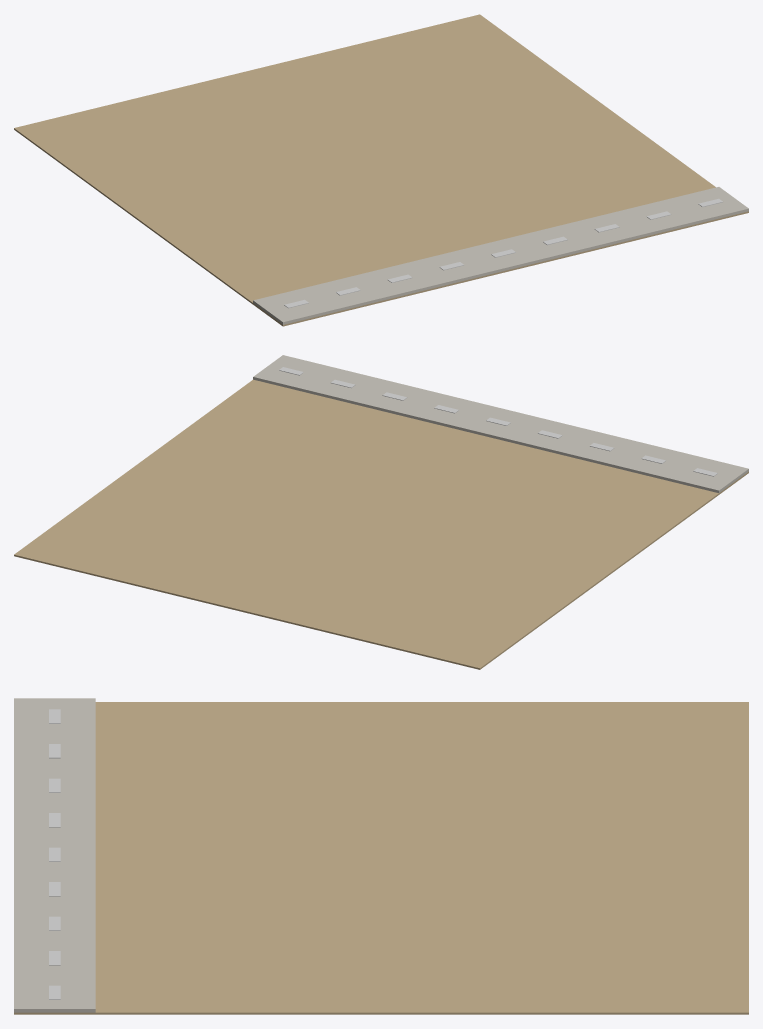
Rendered from stage_00.glb.
3 views of the same model, one above another, from view 1: azimuth 30°, elevation 25°; view 2: azimuth 150°, elevation 25°; view 3: azimuth 270°, elevation 25° (orthographic). The views are drawn at different scales.
Parts seen in each view (by area): view 1: geometry_0; view 2: geometry_0; view 3: geometry_0.
Part boxes in pixels (x1=…): geometry_0: x1=14, y1=14, x2=748, y2=326; geometry_0: x1=14, y1=355, x2=748, y2=669; geometry_0: x1=14, y1=698, x2=748, y2=1014.
Size of the model in its own units: 9 by 0.091 by 9.
